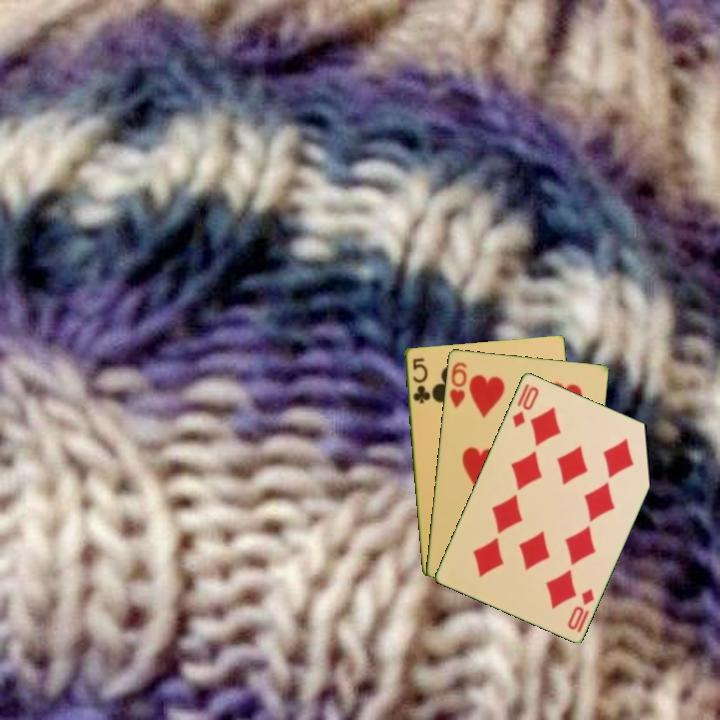10d: (563, 584, 597, 635), (508, 382, 542, 430)
5c: (409, 354, 433, 406)
6h: (446, 358, 469, 410)
